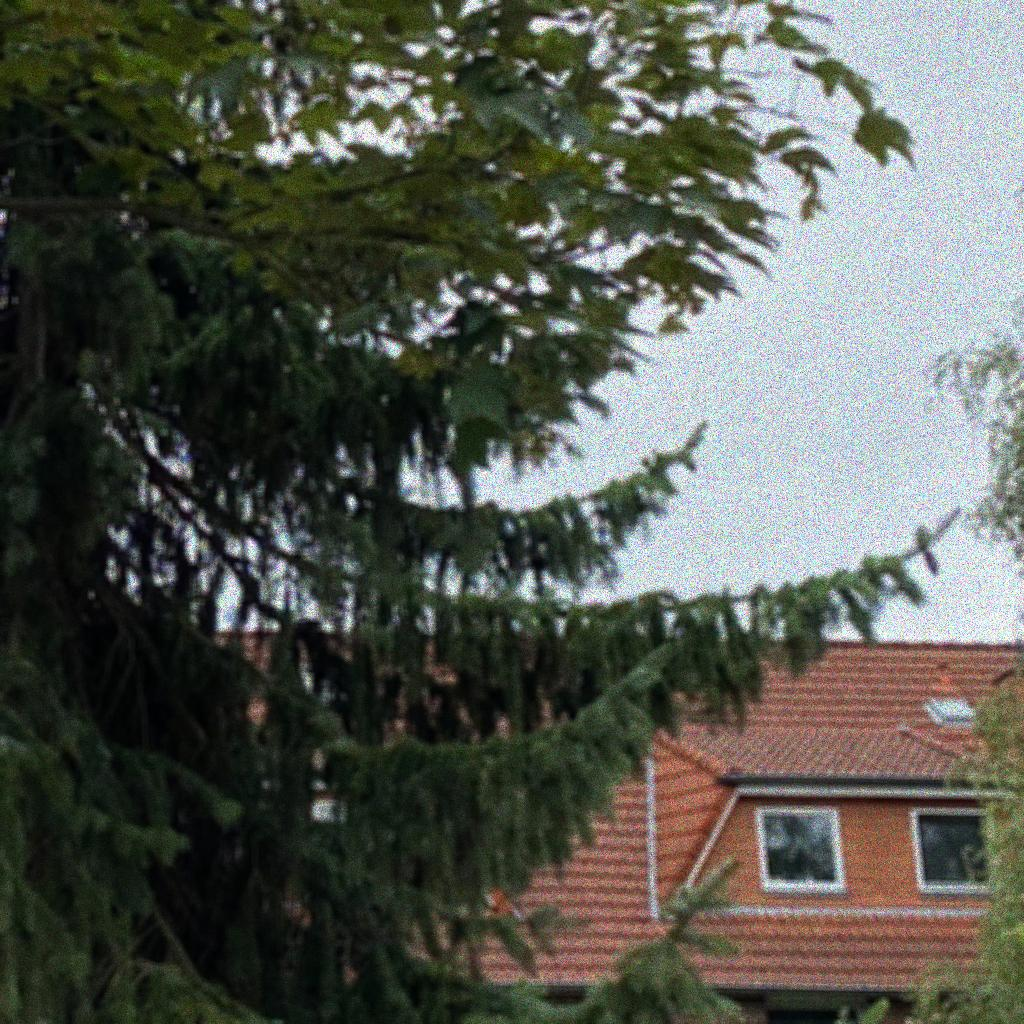tree: (1, 1, 963, 1024), (900, 178, 1024, 1024)
